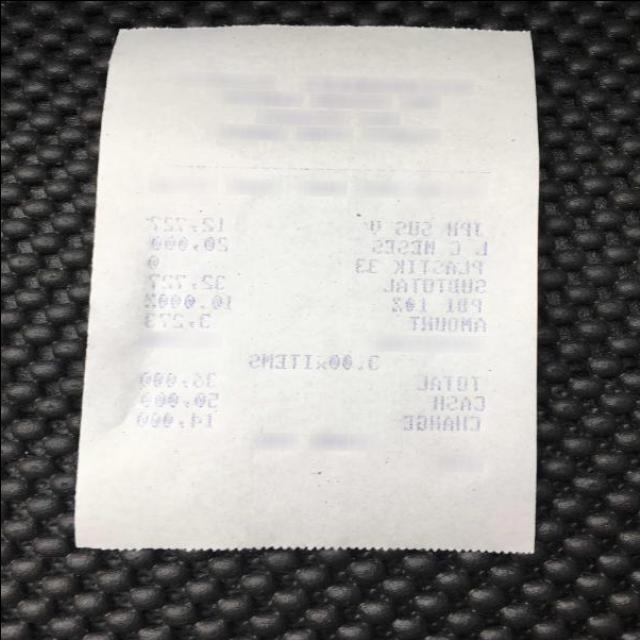kertas: (74, 23, 540, 552)
